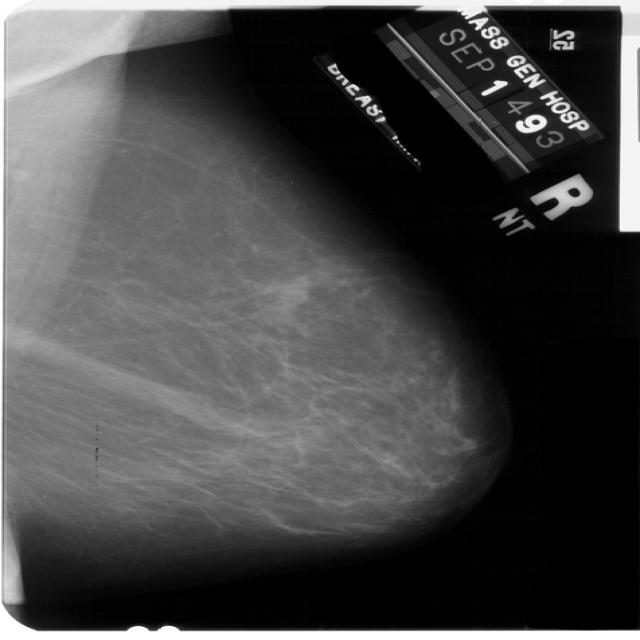tumour: (273, 276, 309, 309)
